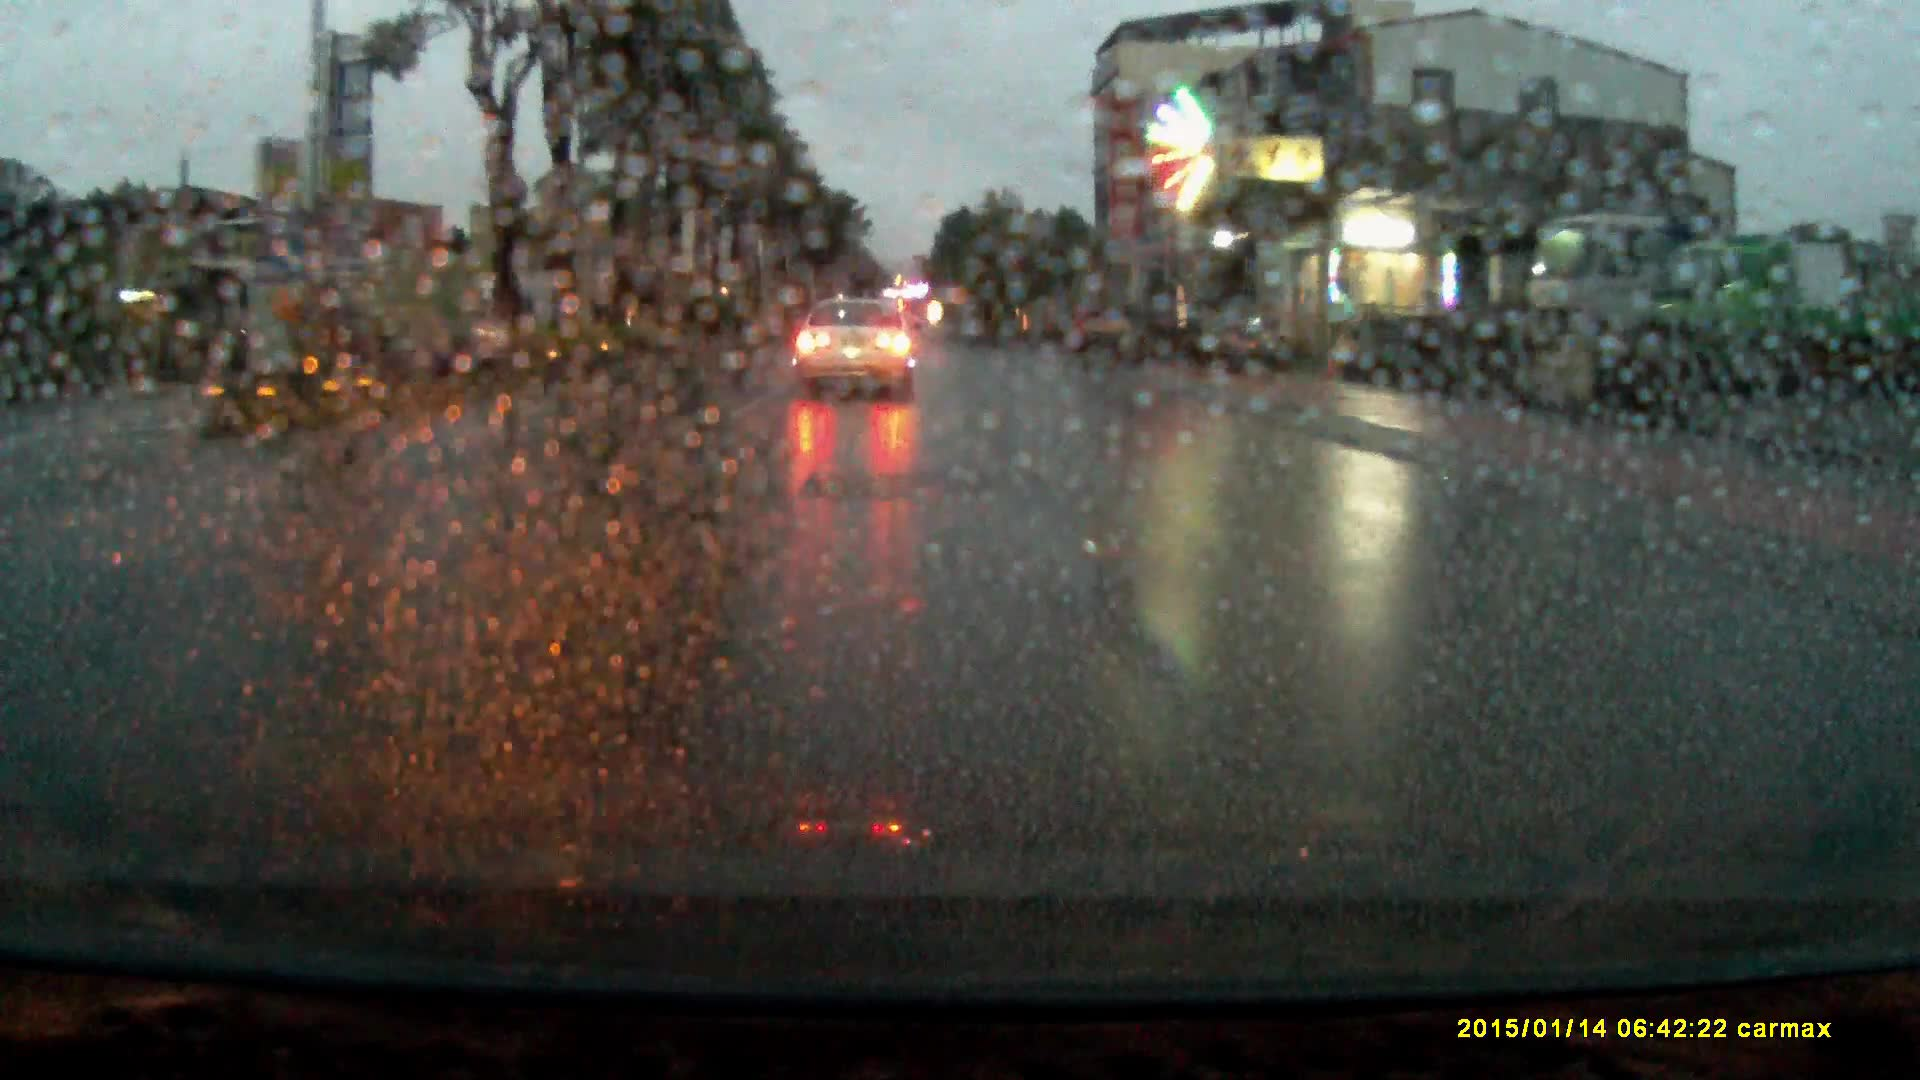vehicle: (1618, 248, 1920, 398), (1513, 215, 1673, 382), (791, 301, 916, 407), (473, 277, 574, 345)
